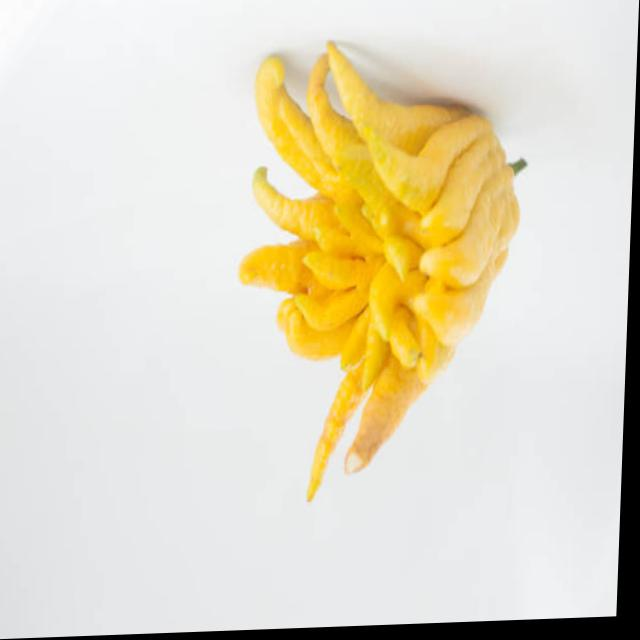PhatThu: (228, 50, 533, 518)
